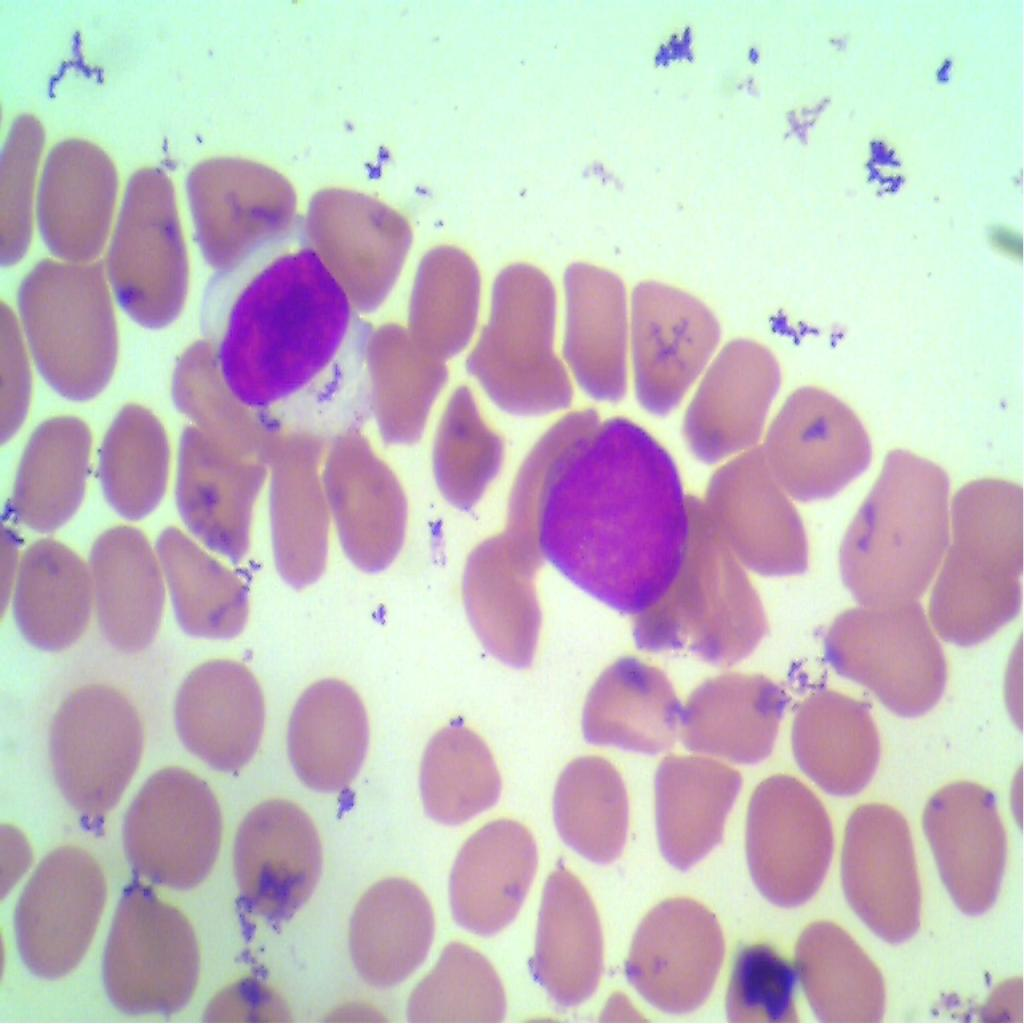Eritrosit: (832, 434, 946, 611), (818, 591, 960, 724), (14, 257, 126, 411), (38, 669, 150, 823), (470, 257, 572, 420), (99, 892, 221, 1023), (4, 829, 109, 981), (919, 772, 1018, 931), (228, 784, 334, 931), (276, 666, 378, 817), (836, 796, 933, 954), (308, 172, 410, 319), (121, 754, 221, 898), (108, 164, 195, 329), (150, 518, 261, 646), (623, 269, 715, 420), (318, 437, 416, 577), (742, 770, 838, 909), (184, 144, 294, 265), (166, 420, 262, 558), (256, 440, 346, 584), (646, 751, 743, 879), (82, 515, 166, 660), (623, 894, 724, 1014), (362, 314, 448, 454), (716, 454, 811, 580), (526, 861, 609, 1005), (438, 811, 538, 930), (88, 388, 178, 518), (539, 748, 634, 871), (458, 542, 548, 671), (790, 674, 884, 795), (675, 661, 784, 765), (11, 531, 95, 665), (573, 655, 686, 754), (6, 418, 98, 538), (178, 651, 270, 770), (560, 252, 630, 407), (686, 335, 772, 459), (35, 138, 119, 264), (789, 914, 886, 1023), (338, 865, 434, 975), (774, 384, 868, 495), (922, 552, 1023, 648), (415, 714, 508, 817), (401, 935, 506, 1023), (433, 391, 499, 528), (406, 244, 482, 358), (955, 470, 1023, 575)
Limfoblast: (206, 228, 370, 442), (533, 402, 686, 621)
